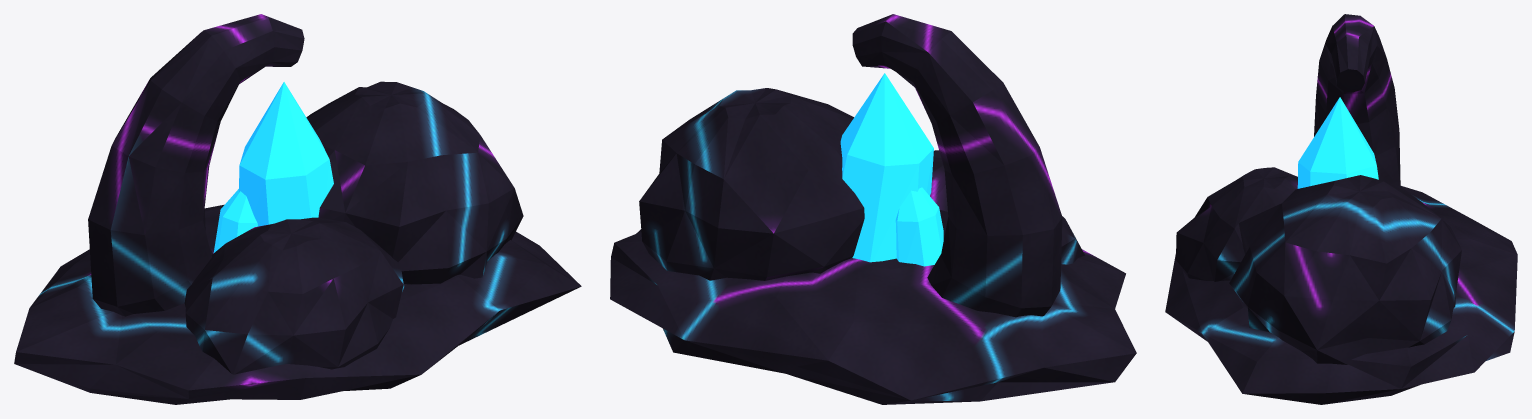
File: Anomalous_Loose_B.fbx
The picture shows the model from 3 angles, left to right: view 1: azimuth 30°, elevation 25°; view 2: azimuth 150°, elevation 25°; view 3: azimuth 270°, elevation 25°; orthographic projection. The views are drawn at different scales.
Parts seen in each view (by area): view 1: Anomalous_Loose_B_LOD0; view 2: Anomalous_Loose_B_LOD0; view 3: Anomalous_Loose_B_LOD0.
Boxes of the visible parts, bbox=[...] form: Anomalous_Loose_B_LOD0: bbox=[14, 14, 581, 404]; Anomalous_Loose_B_LOD0: bbox=[610, 14, 1136, 404]; Anomalous_Loose_B_LOD0: bbox=[1165, 14, 1517, 404].
Size of what is drawn, in the model's own units: 2.44 by 1.47 by 1.68.
